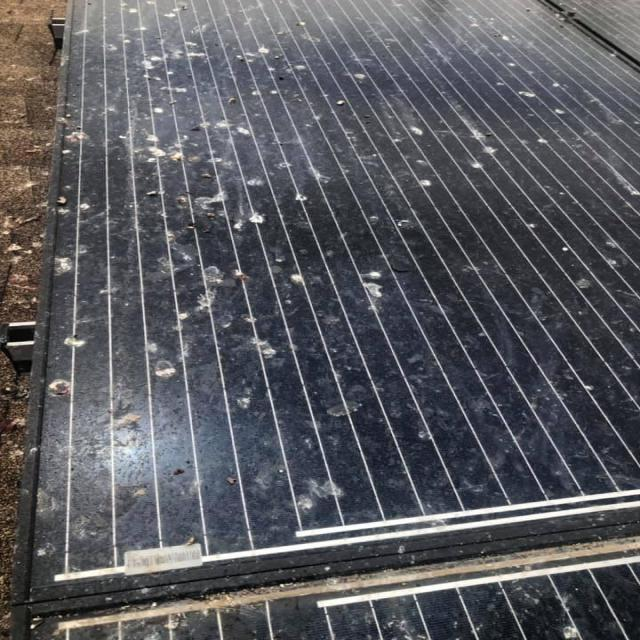soiled: (0, 1, 638, 619)
